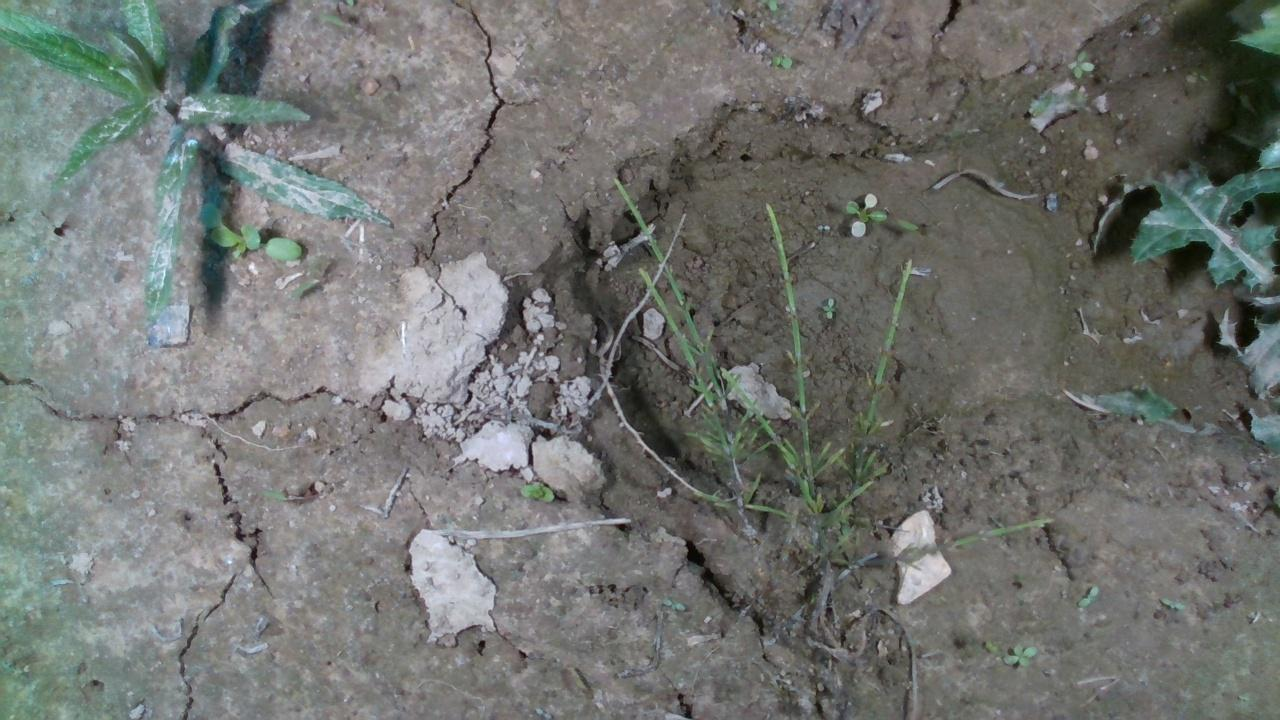weed: (208, 223, 302, 258), (839, 191, 887, 237), (762, 45, 795, 76), (512, 479, 557, 501), (1066, 48, 1091, 83), (997, 644, 1038, 665), (1075, 585, 1098, 608), (1152, 596, 1190, 609)
